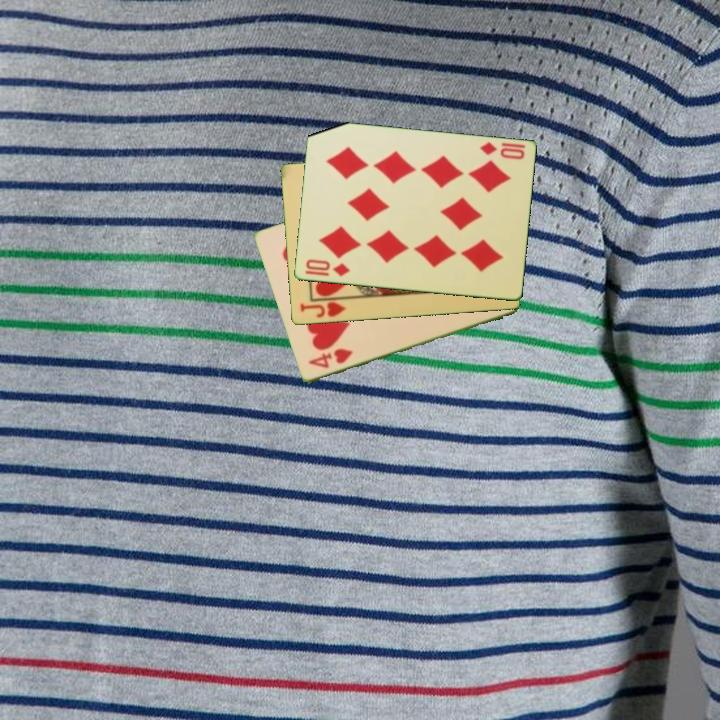10d: (302, 256, 352, 280), (476, 139, 528, 162)
4h: (305, 345, 356, 371)
Jh: (296, 299, 348, 321)
